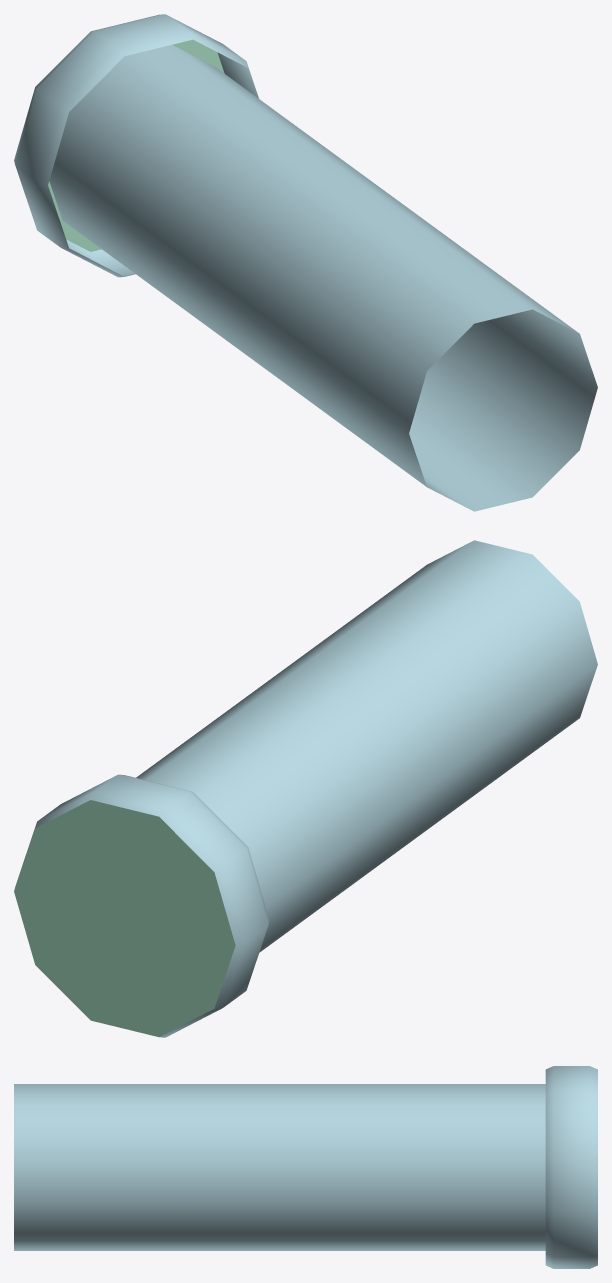
3 views of the same model, one above another, from view 1: azimuth 30°, elevation 25°; view 2: azimuth 150°, elevation 25°; view 3: azimuth 270°, elevation 25° (orthographic). The views are drawn at different scales.
Parts seen in each view (by area): view 1: Object05; view 2: Object05; view 3: Object05.
Boxes of the visible parts, left/top/right/bottom form: Object05: left=14, top=14, right=597, bottom=511; Object05: left=14, top=540, right=597, bottom=1037; Object05: left=14, top=1066, right=597, bottom=1268.
Size of the model in its own units: 12480 by 11869 by 35643.
